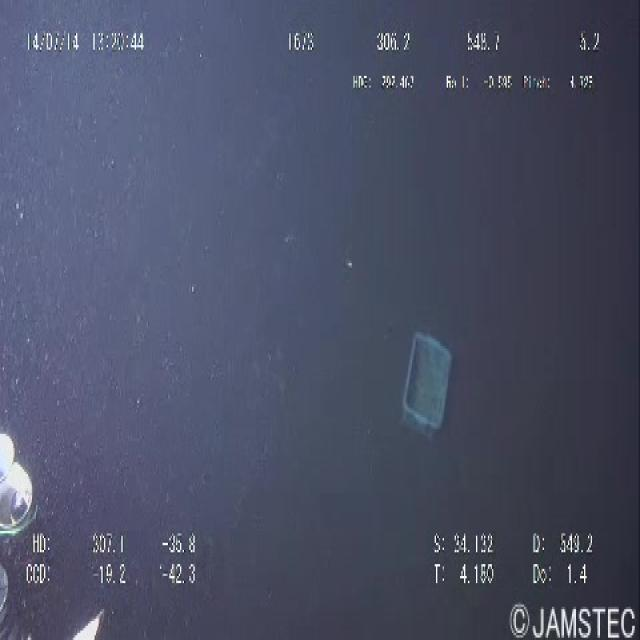plastic: (389, 313, 471, 450)
